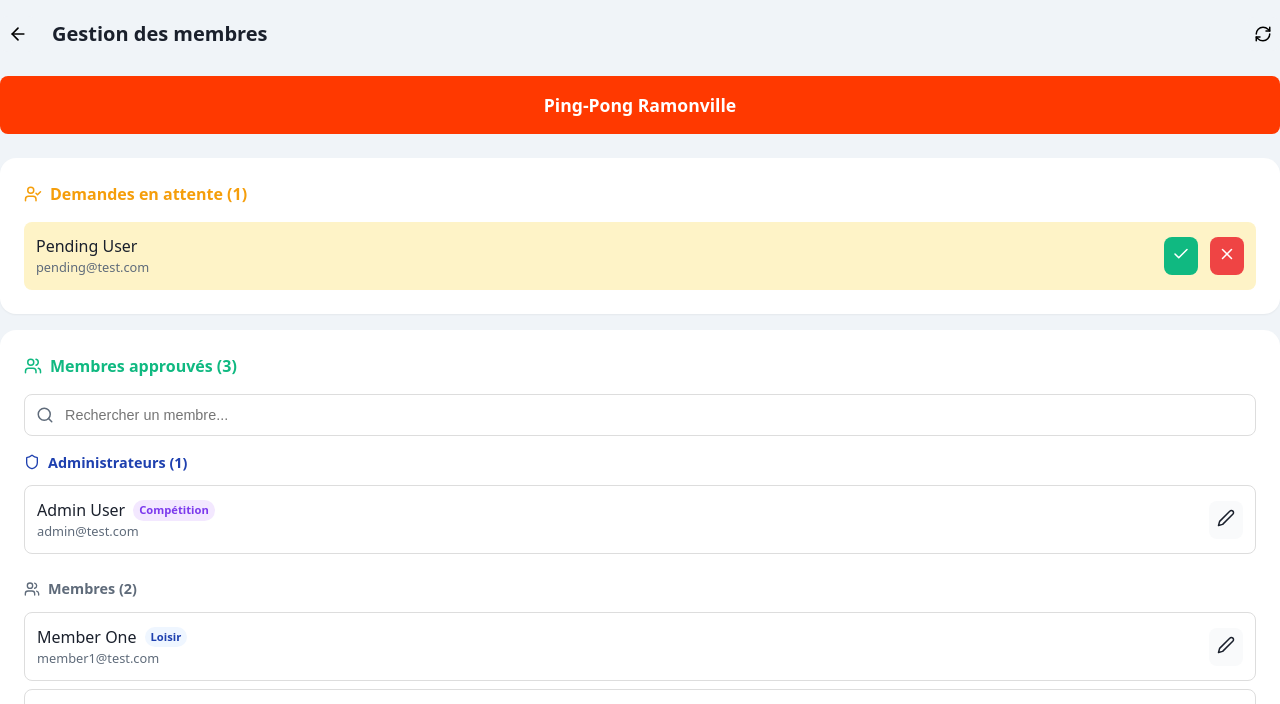
Scenario: AdminPanel › filtre les membres via la recherche
The image size is (1280, 704).
Type "Two" into the field with placeholder "Rechercher un membre..." at point(640, 415), box x1=24 y1=394 x2=1256 y2=436
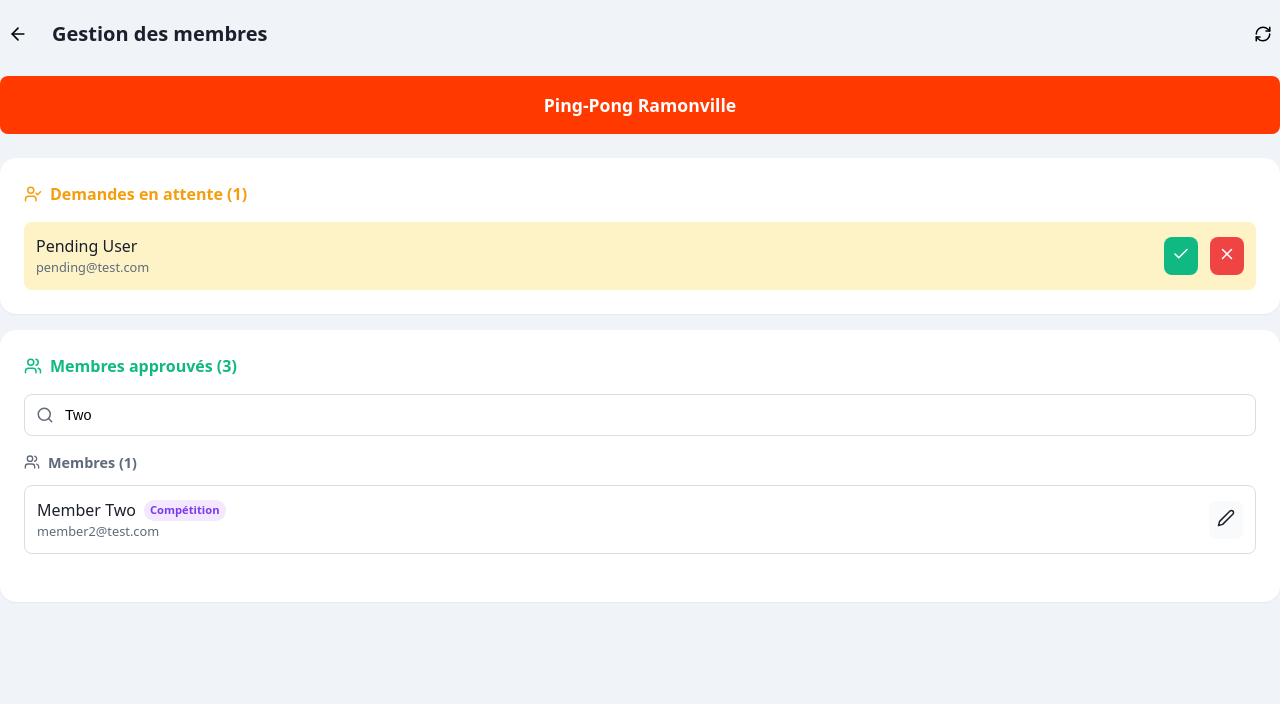
Expected: the text "Member Two" is shown, x1=37 y1=499 x2=136 y2=521
Expected: the text "Member One" is gone
